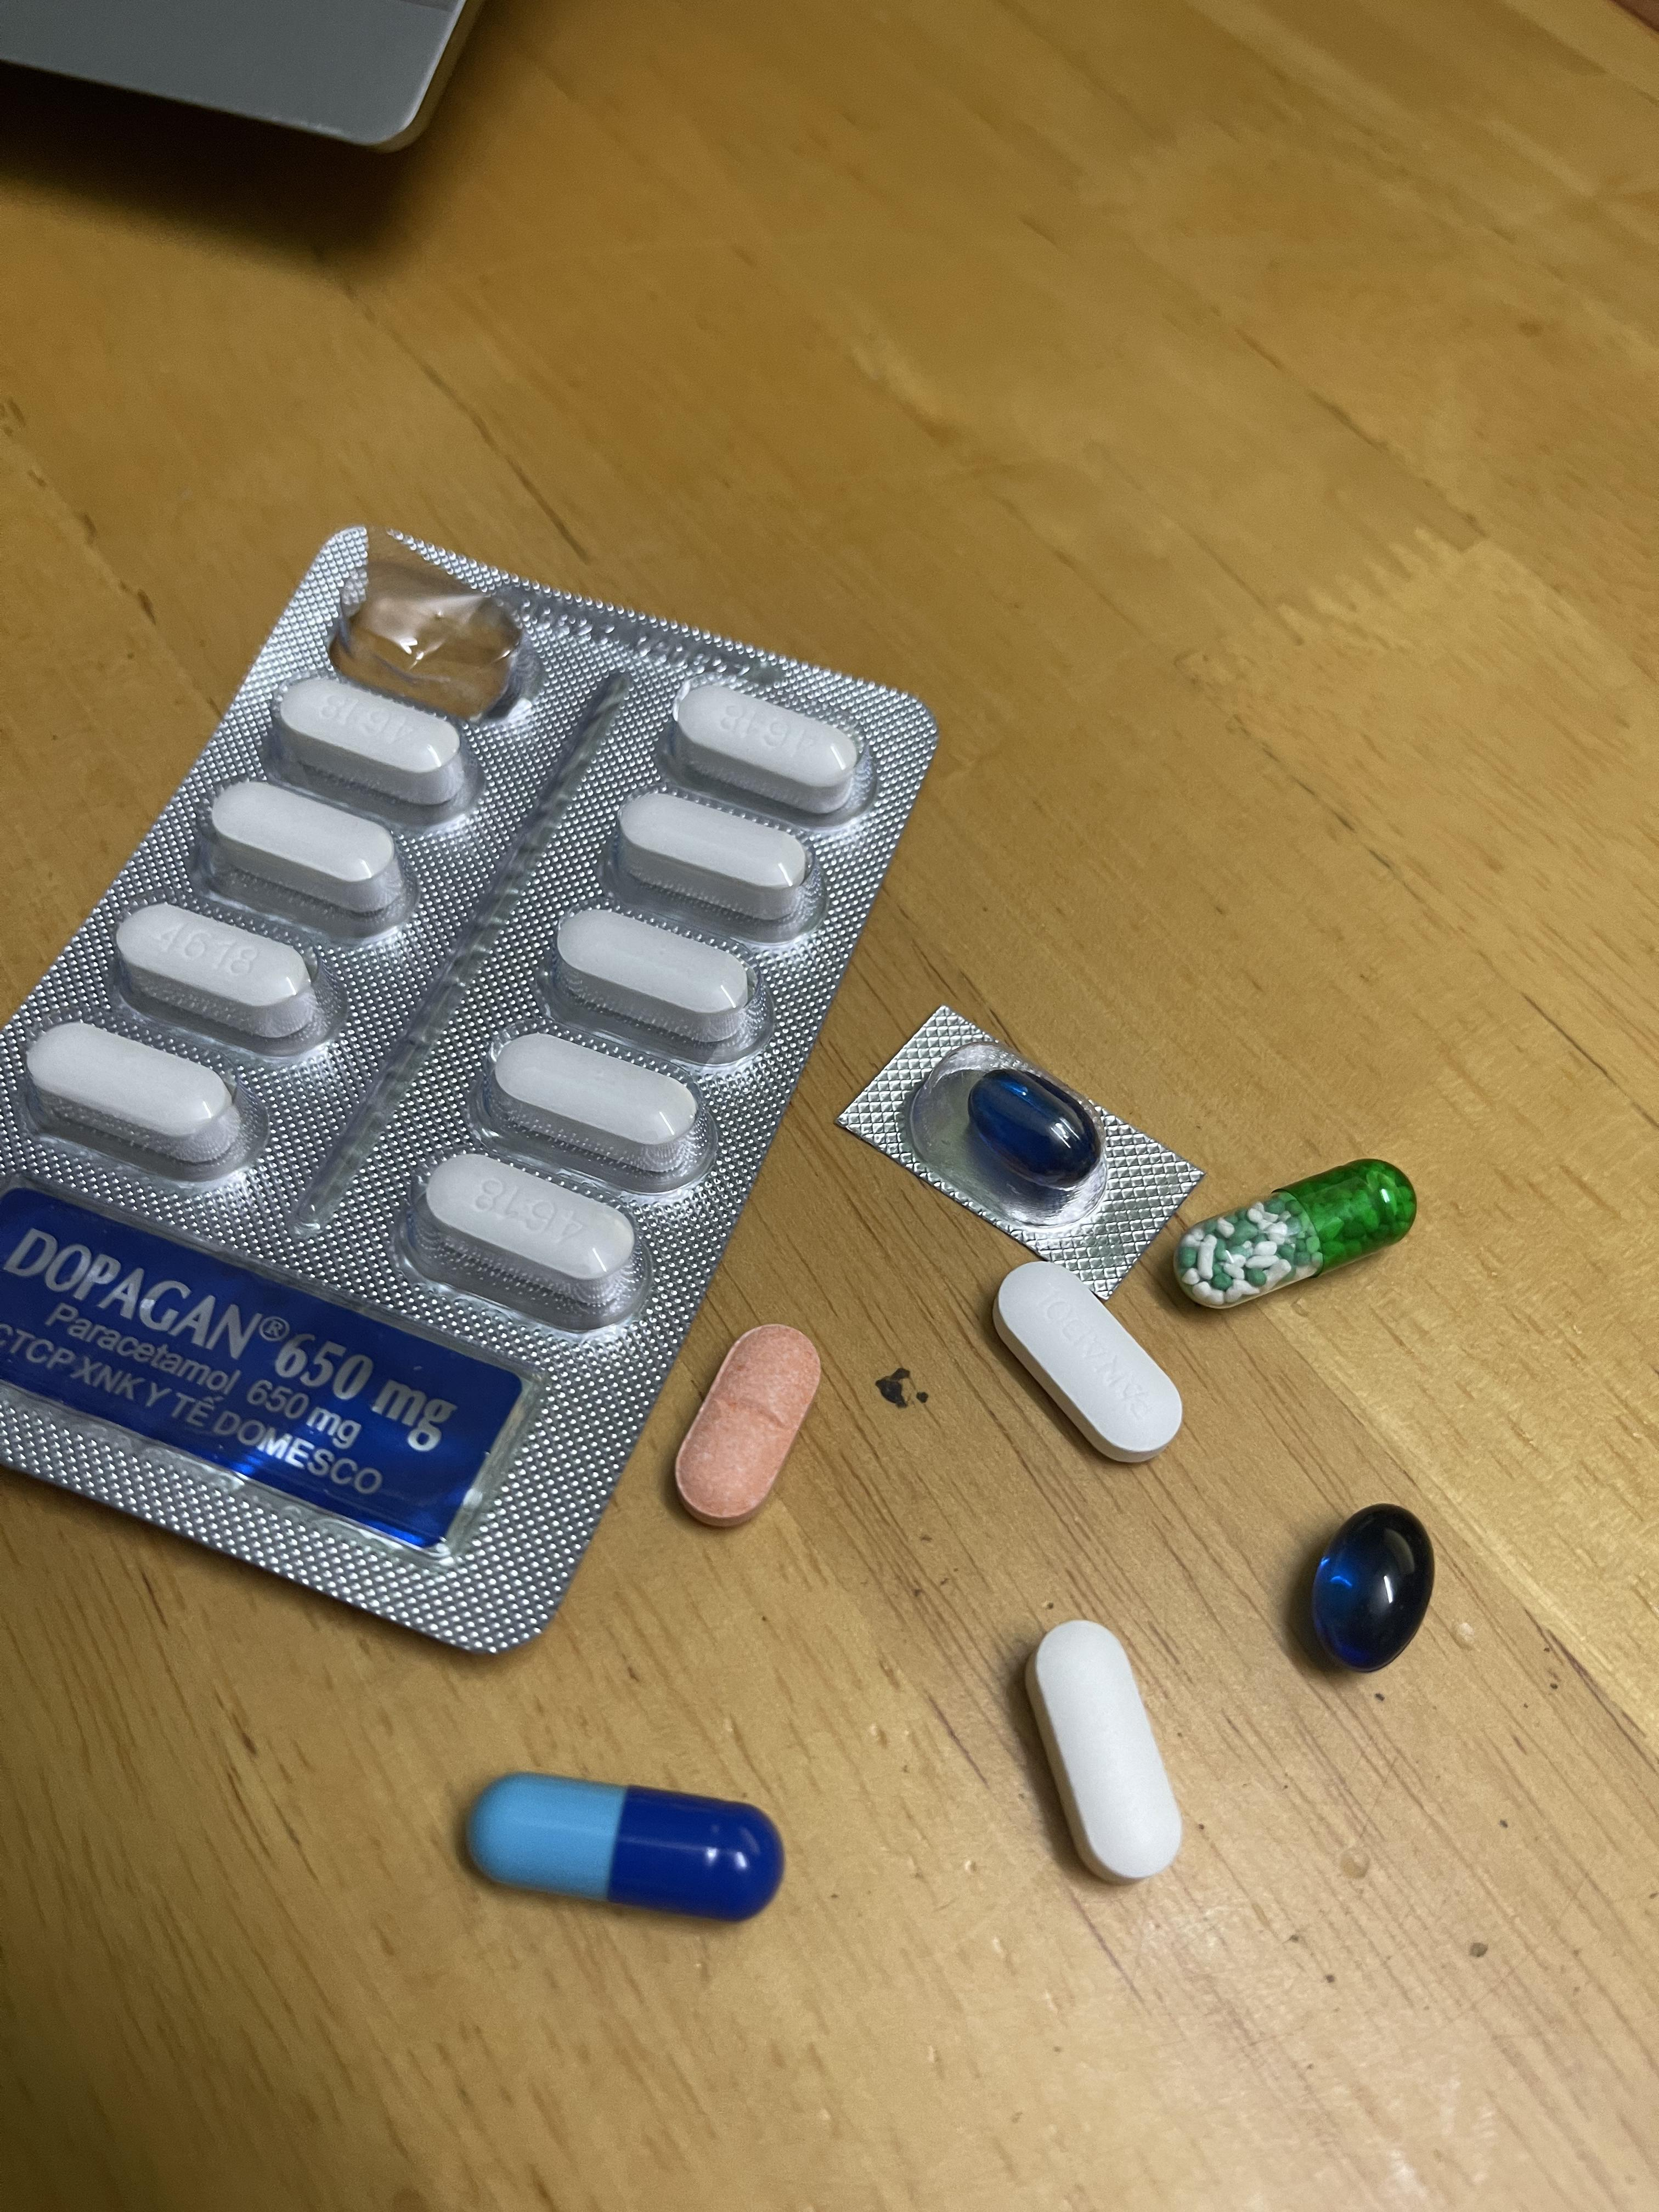Lincomyxin_500mg: (1312, 1507, 1427, 1667), (965, 1068, 1100, 1184)
Loratadine_10mg: (673, 1325, 821, 1519)
Paracetamol_350mg: (995, 1263, 1180, 1453)
Paracetamol_500mg: (1032, 1627, 1180, 1876), (199, 782, 408, 937), (28, 1021, 239, 1172), (420, 1153, 636, 1296), (552, 906, 756, 1040), (613, 787, 809, 921), (491, 1031, 697, 1157), (277, 674, 467, 805), (673, 681, 863, 803), (120, 906, 312, 1026)
Paracetamol_650mg: (1183, 1162, 1412, 1301)
pill: (474, 1780, 774, 1914)
